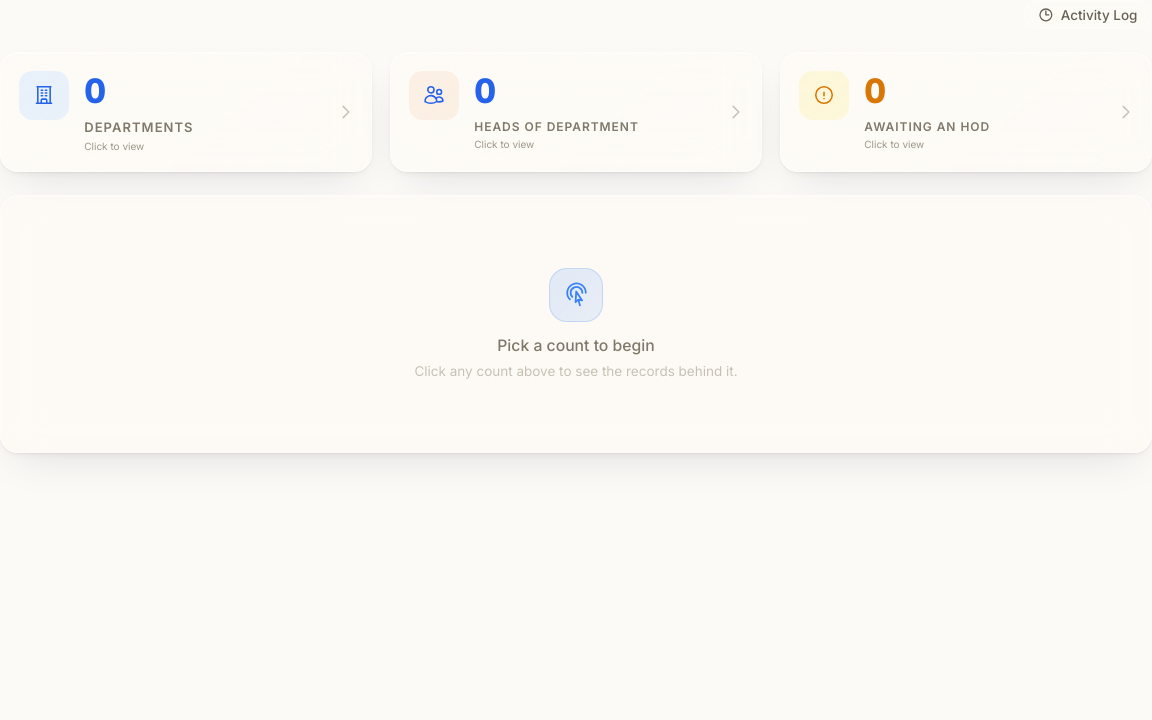
AdminPanel â€” add department › blocks submission and shows the validation message when invalid
The width and height of the screenshot is (1152, 720).
Click the button "0 Departments Click to view" at (44, 95), box [0,52,372,172]
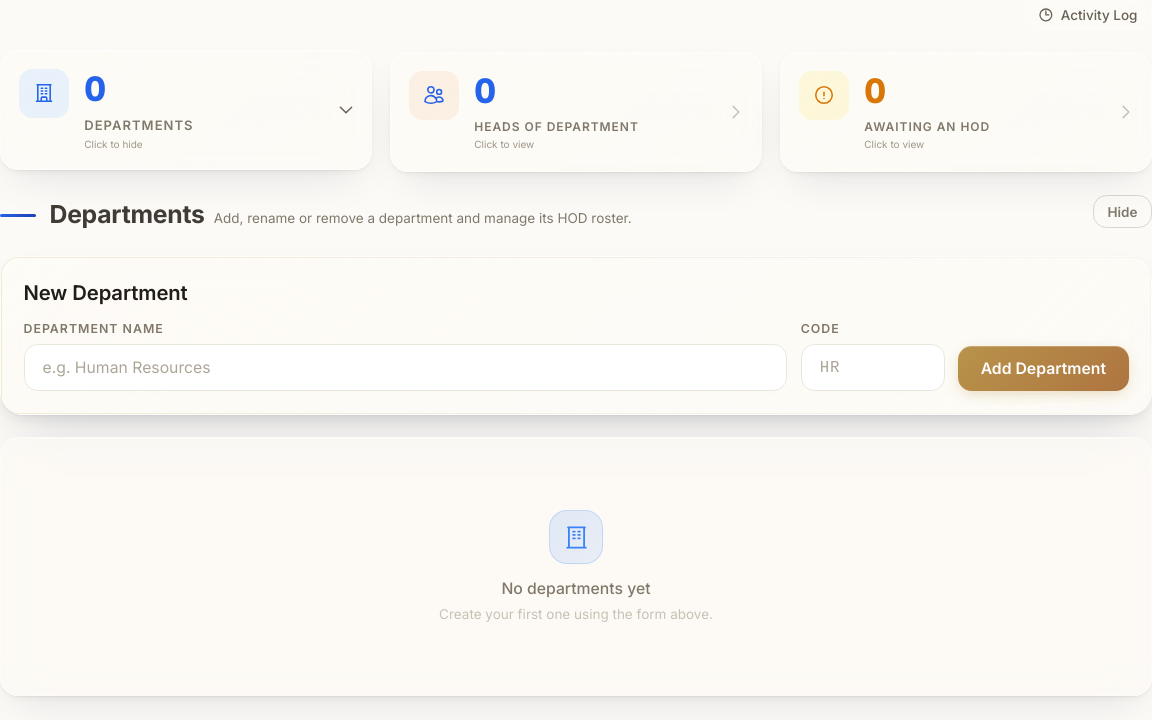
Type "Finance" into the field labelled "Department Name" at (405, 368), box [24,344,787,391]
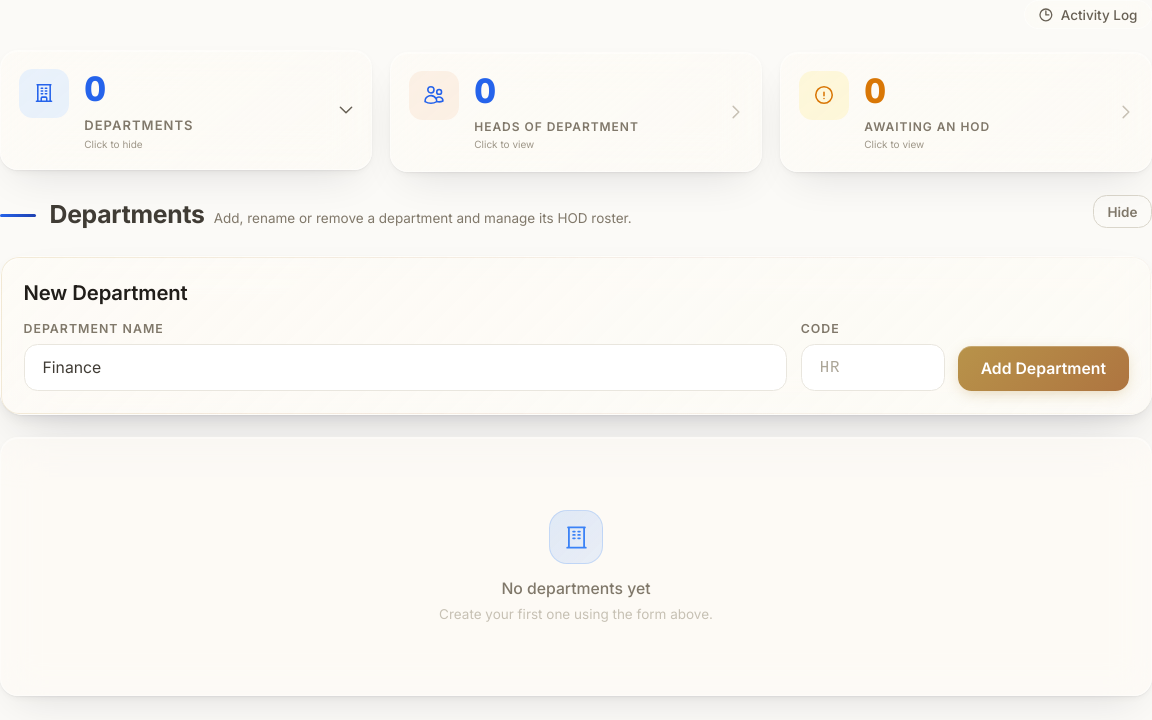
Type "FIN" into the field labelled "Code" at (873, 368), box [801,344,945,391]
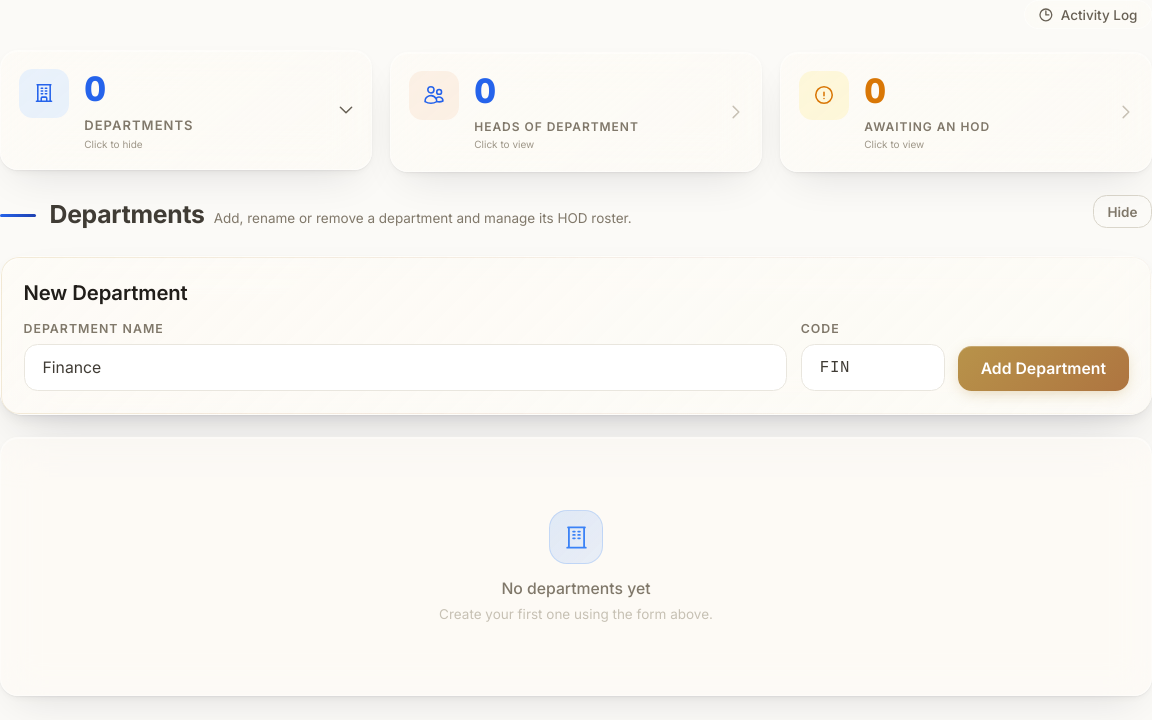
Click the button "Add Department" at (1043, 369), box [958,346,1128,391]
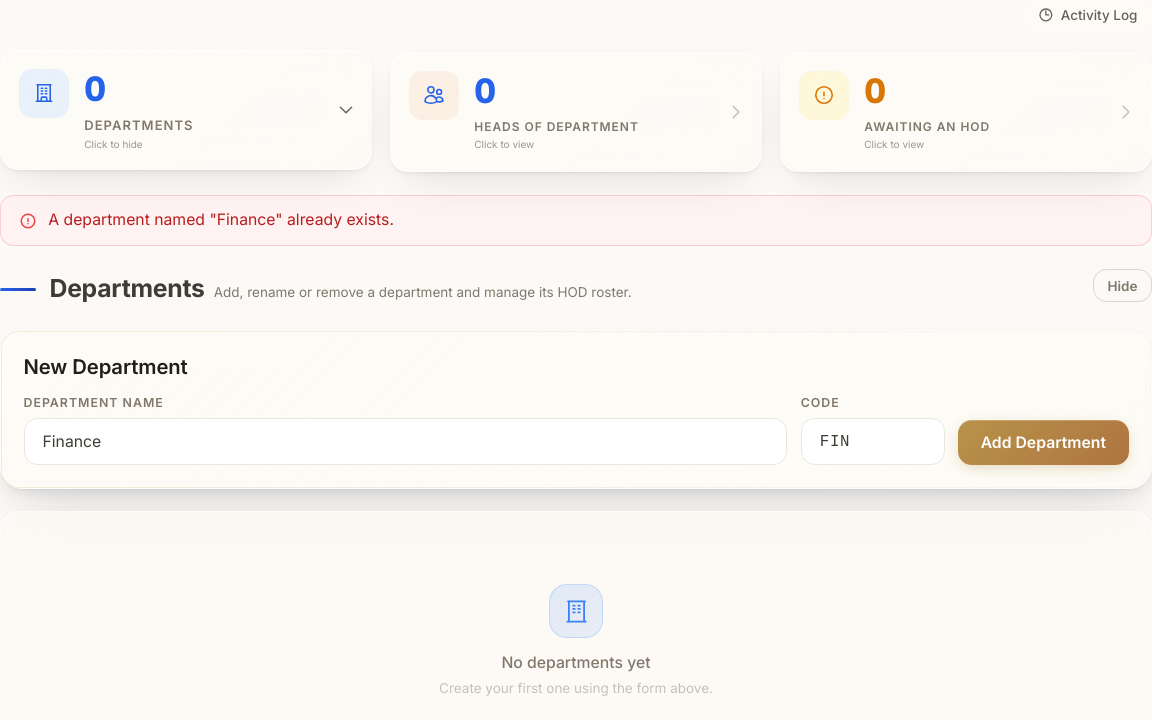
Expected: the text "A department named \"Finance\" already exists." is shown, [0,195,1151,246]
